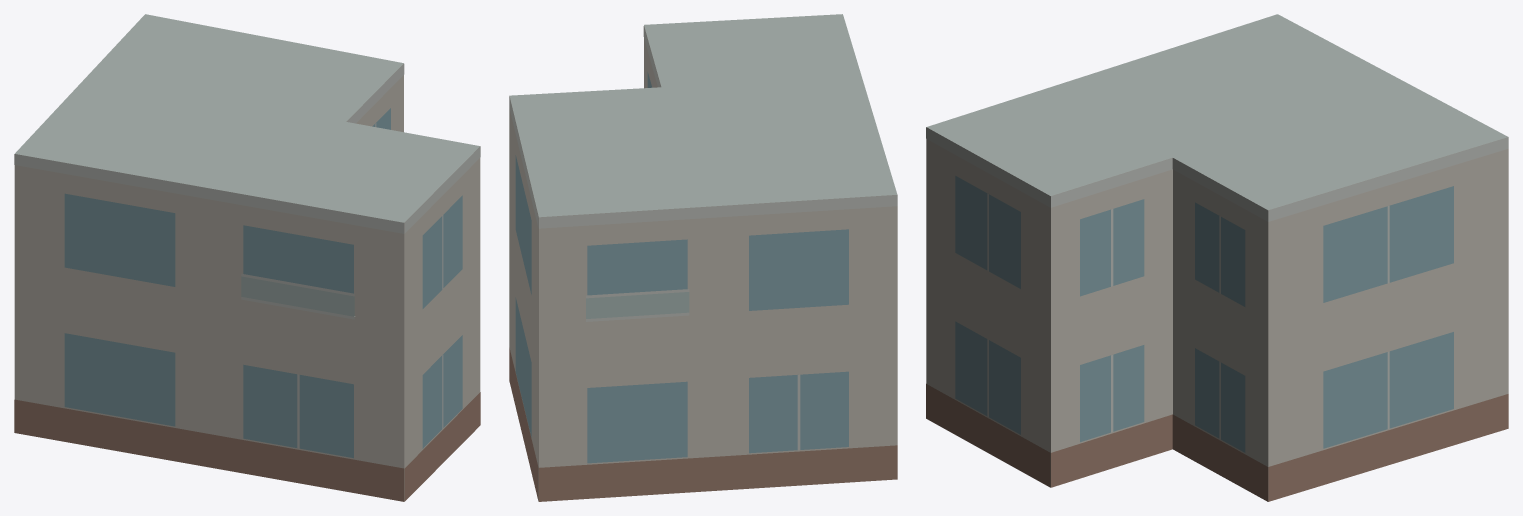
The model's file is survey-upis-32733975.glb.
3 renders of one model, left to right at view 1: azimuth 30°, elevation 25°; view 2: azimuth 150°, elevation 25°; view 3: azimuth 270°, elevation 25°, orthographic. The views are drawn at different scales.
Visible parts, largest first — view 1: survey-upis-32733975.tmp; view 2: survey-upis-32733975.tmp; view 3: survey-upis-32733975.tmp.
Part boxes in pixels (x1=…): survey-upis-32733975.tmp: x1=14, y1=14, x2=480, y2=501; survey-upis-32733975.tmp: x1=509, y1=14, x2=897, y2=501; survey-upis-32733975.tmp: x1=926, y1=14, x2=1508, y2=501.
Size of the model in its own units: 8.82 by 6.1 by 11.05.
